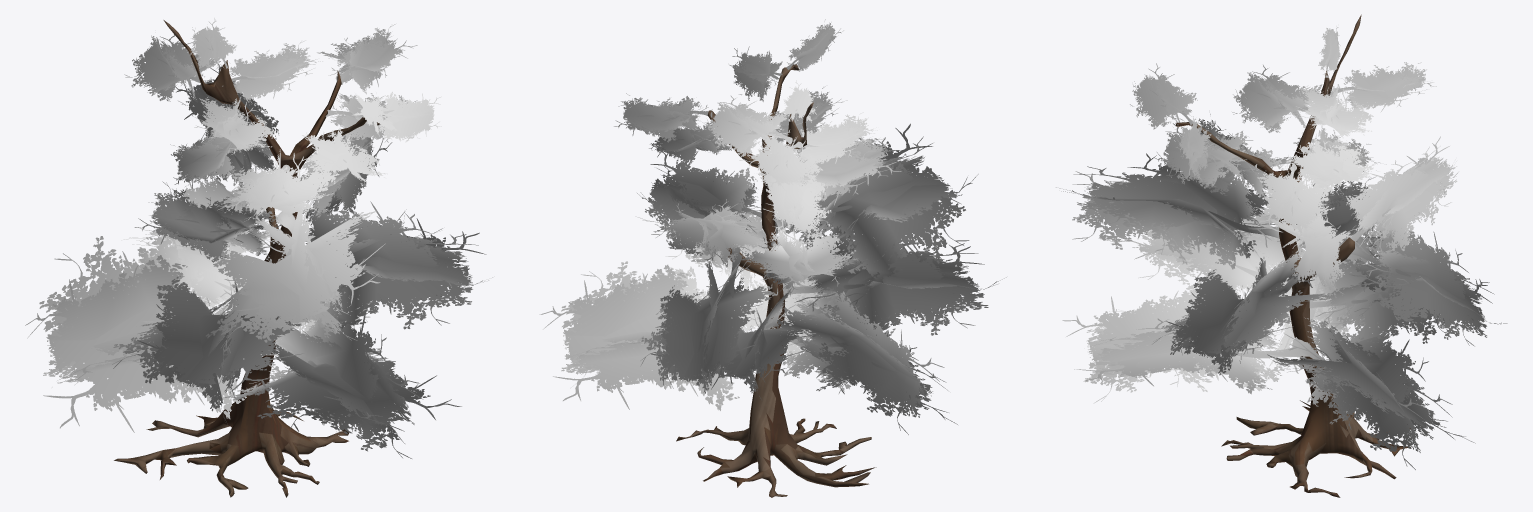
File: Tree_Juniper_Regular.fbx
The picture shows the model from 3 angles, left to right: view 1: azimuth 30°, elevation 25°; view 2: azimuth 150°, elevation 25°; view 3: azimuth 270°, elevation 25°; orthographic projection. The views are drawn at different scales.
Visible parts, largest first — view 1: Tree Juniper Regular; view 2: Tree Juniper Regular; view 3: Tree Juniper Regular.
Boxes of the visible parts, x1=… form: Tree Juniper Regular: x1=25, y1=18, x2=492, y2=497; Tree Juniper Regular: x1=539, y1=19, x2=1006, y2=497; Tree Juniper Regular: x1=1056, y1=14, x2=1507, y2=497.
Size of the model in its own units: 786 by 767 by 778.
